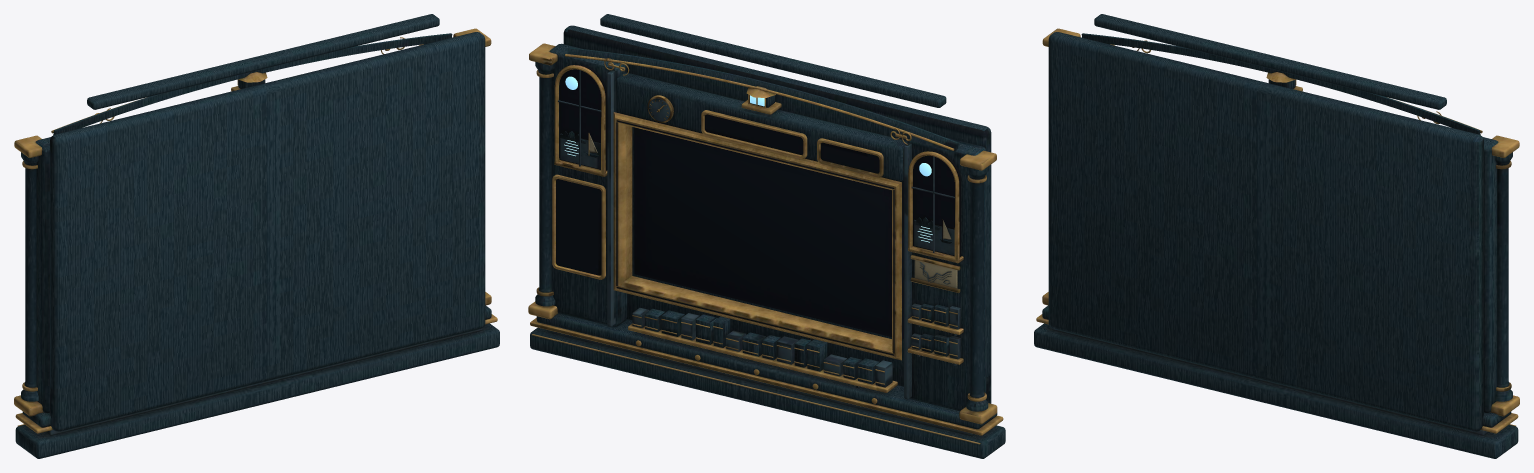
The picture shows the model from 3 angles, left to right: view 1: azimuth 30°, elevation 25°; view 2: azimuth 150°, elevation 25°; view 3: azimuth 330°, elevation 25°; orthographic projection.
Parts seen in each view (by area): view 1: Midnight_oak, Maritime_brass, Blue_iron; view 2: Midnight_oak, Dark_enamel, Maritime_brass, Blue_iron, Chart_vellum, Harbor_moon_glow; view 3: Midnight_oak, Maritime_brass, Blue_iron.
Part boxes in pixels (x1,y1,x2,y2): Midnight_oak: (15,14,499,458); Maritime_brass: (14,28,497,433); Blue_iron: (45,328,482,435); Midnight_oak: (530,14,1005,458); Dark_enamel: (556,64,960,355); Maritime_brass: (528,43,1003,444); Blue_iron: (547,70,973,435); Chart_vellum: (589,134,957,288); Harbor_moon_glow: (564,76,932,242); Midnight_oak: (1034,14,1518,458); Maritime_brass: (1036,28,1519,433); Blue_iron: (1051,328,1488,435).
Size of the model in its own units: 13.9 by 9.8 by 1.5.
6 materials, 5 textured.
